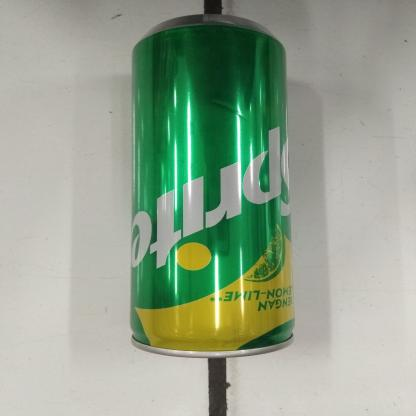can: (127, 11, 301, 361)
